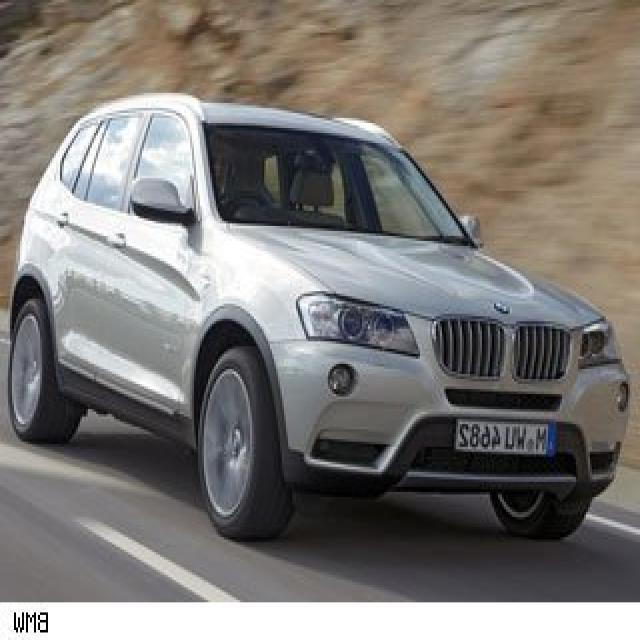Car: (1, 55, 640, 566)
